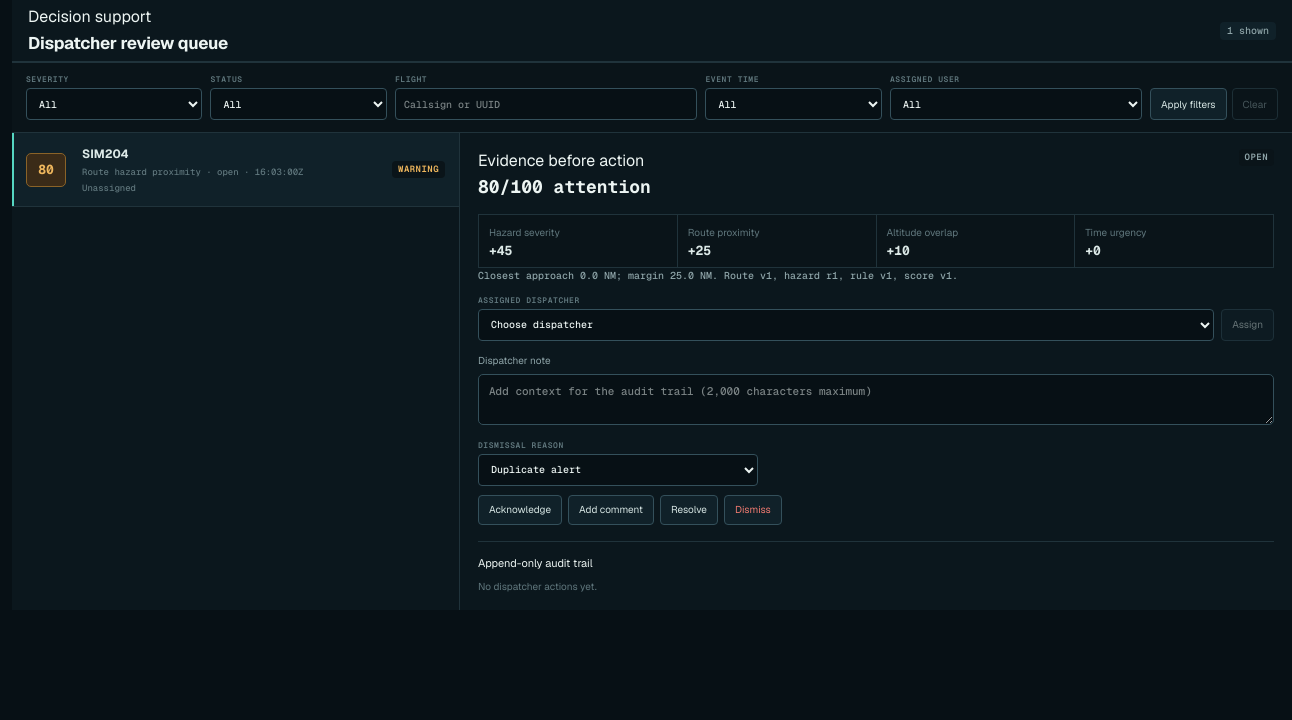
Test: dispatcher alert queue › requires an explanation for an other dismissal reason
Check: the button "Dismiss" is shown, box [724,495,782,525]
Select "Other" in the dropdown labelled "Dismissal reason" at (618, 470), box [478,454,758,486]
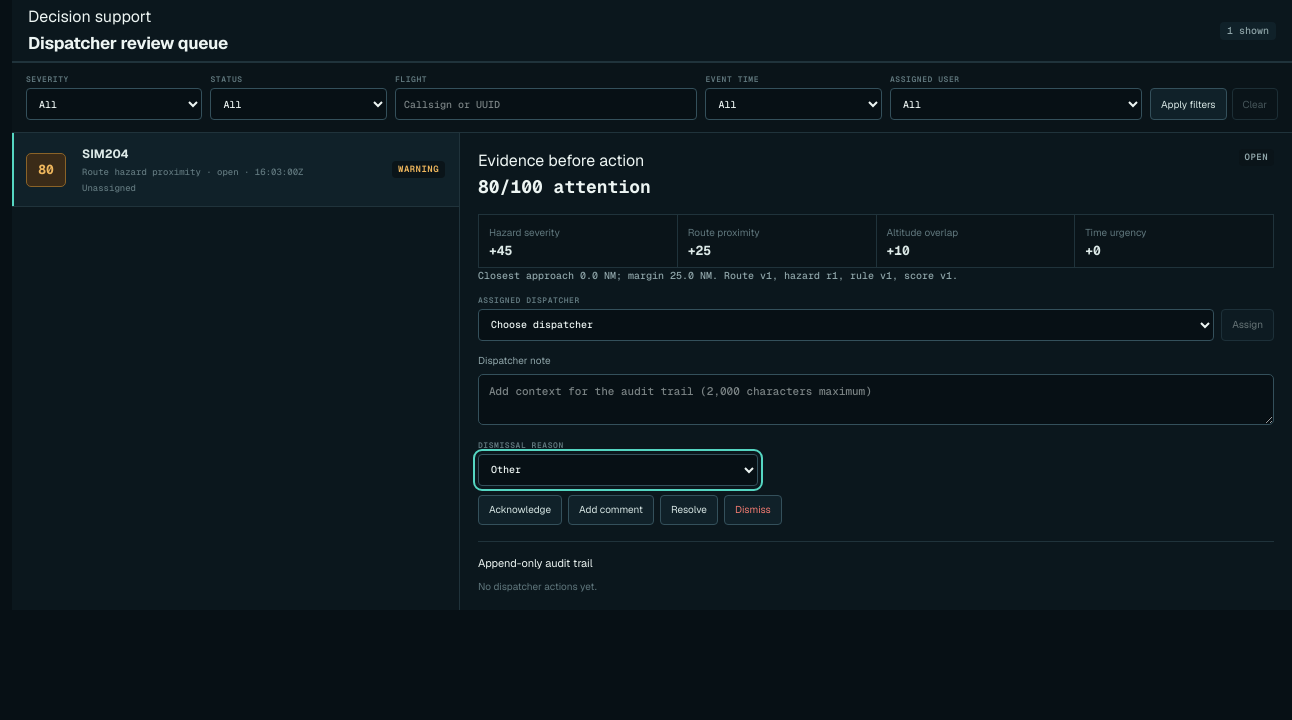
Click the button "Dismiss".
click(753, 510)  # box [724,495,782,525]
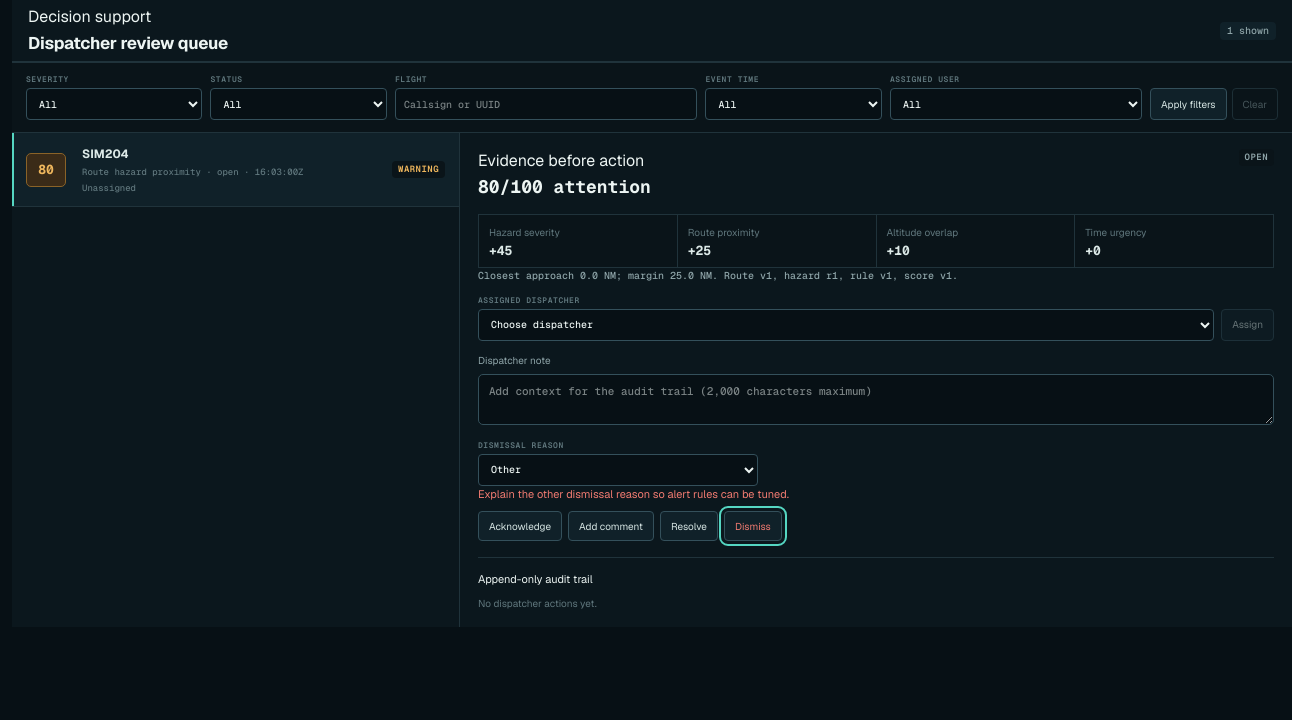
Check: the message shows "Explain the other dismissal reason", box [478,487,789,501]
